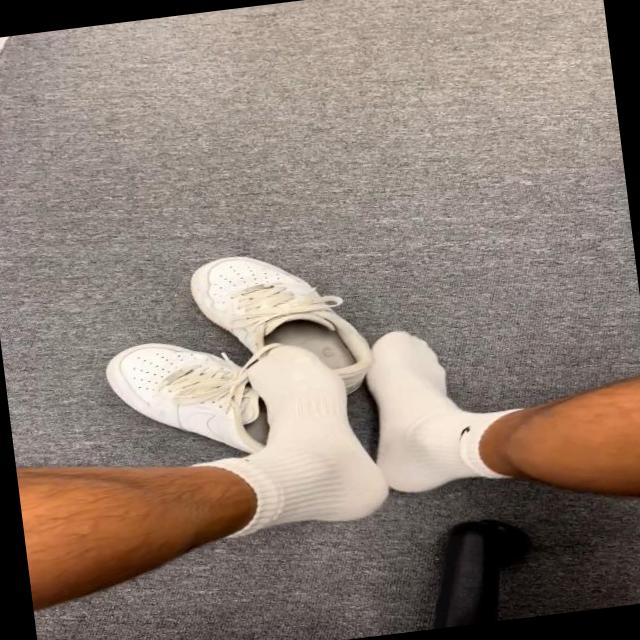nike_original_airforce: (177, 240, 380, 416), (100, 329, 301, 482)
